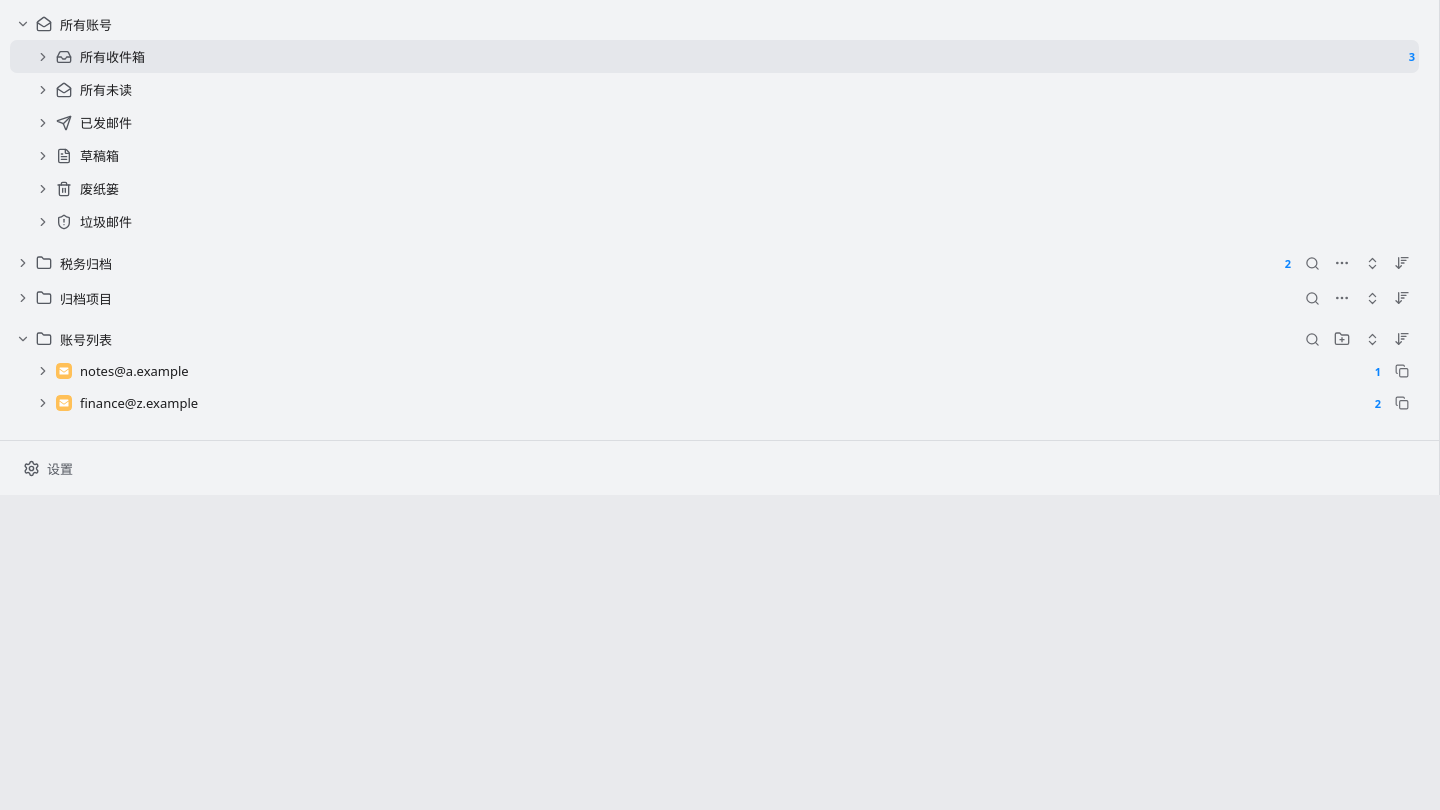
Test: <Sidebar /> › updates global, group, and account unread badges before the read request settles
The width and height of the screenshot is (1440, 810).
Expected: the 1st text with class "unread-badge" reads "2", 1285,256 -> 1291,270
Step 1. Click the button named "展开分组 税务归档" → [23, 263], box 14,250 -> 32,276
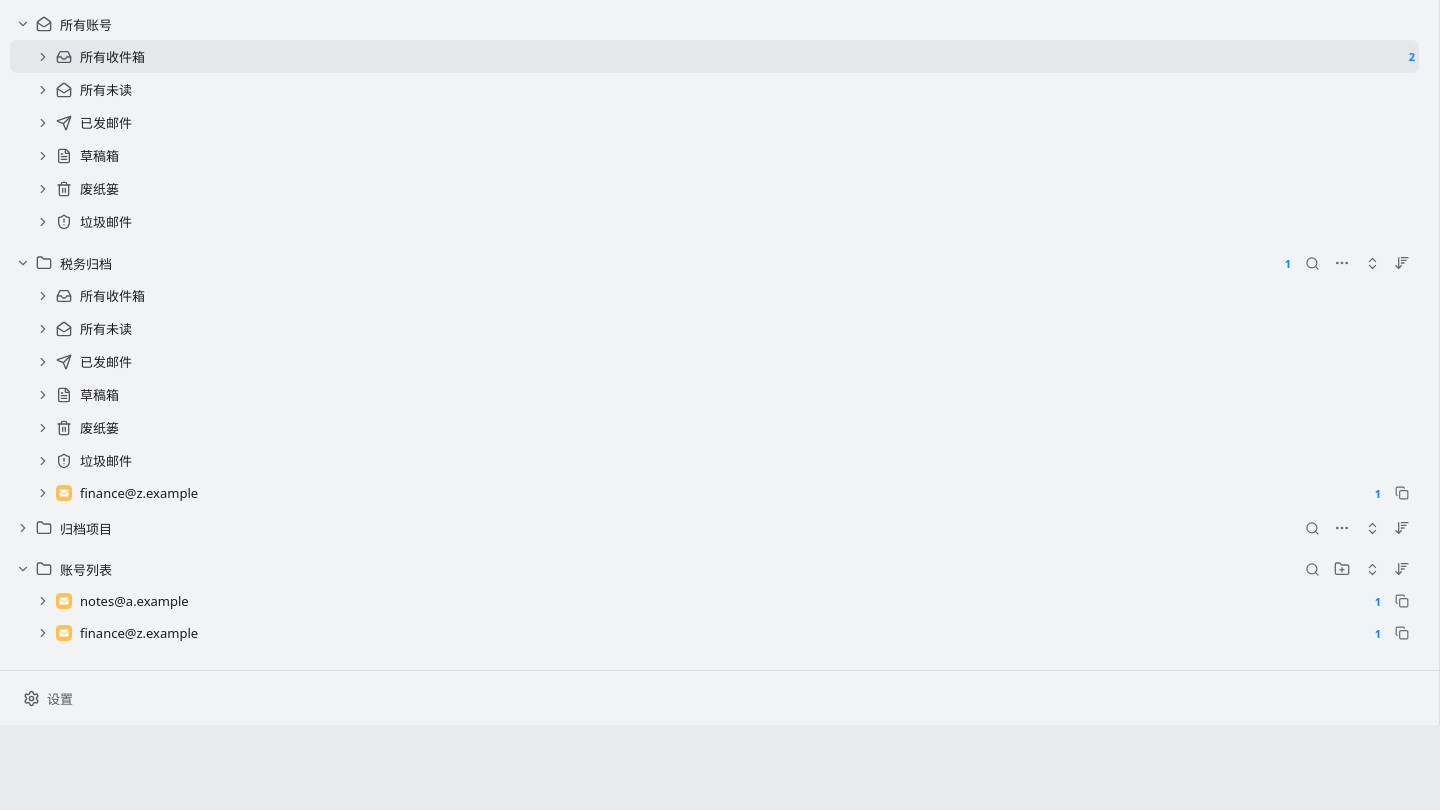
Now the 1st text with class "unread-badge" reads "1", box 1285,256 -> 1291,270
Now the 2nd text with class "unread-badge" reads "1", box 1375,486 -> 1381,500
Now the text with class "unread-badge" reads "2", box 1409,49 -> 1415,64
